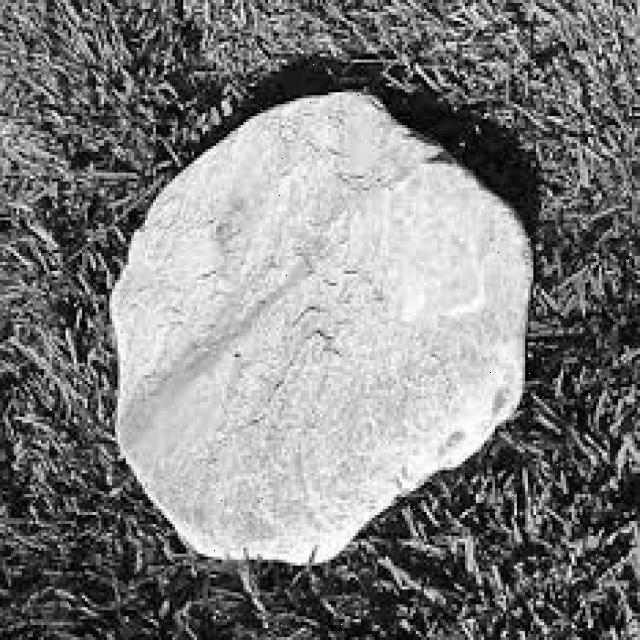Metamorphic: (115, 74, 528, 568)
